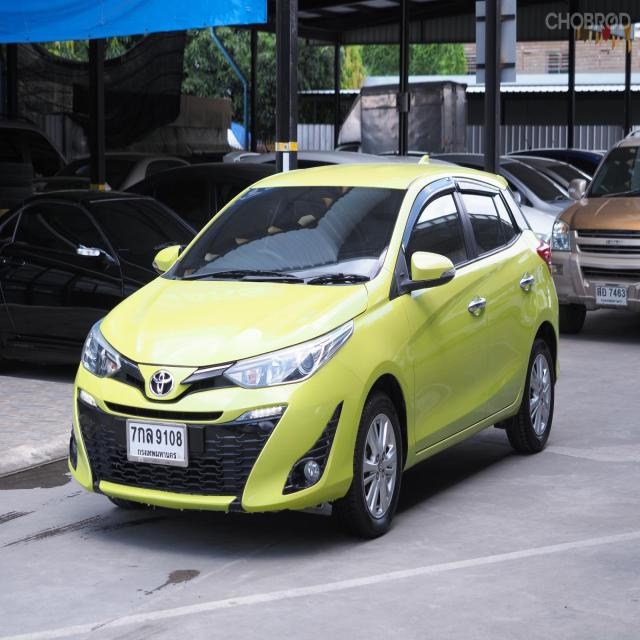license_plate: (123, 413, 193, 475)
